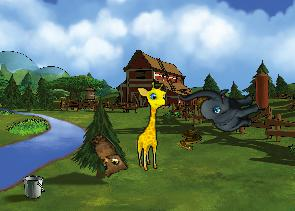elephant: (178, 68, 264, 146)
giraffe: (136, 81, 168, 171)
owl: (79, 131, 132, 183)
